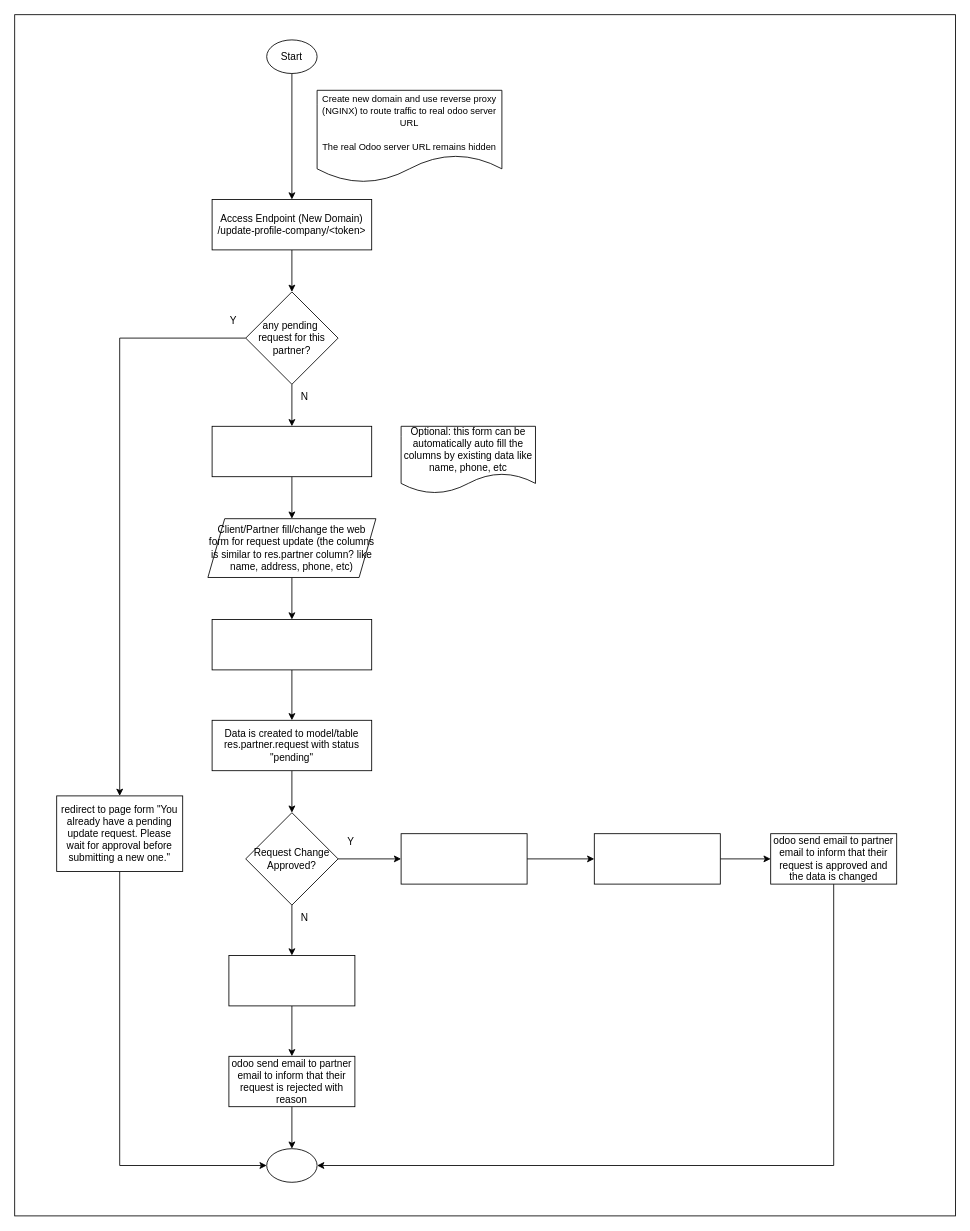
Image size: 970x1231. Some labels were removed from this diagram. Each missing label, with the centre of its shape:
Client submit request change: [291,644]
Data res.partner updated with data from res.partner.request: [656,858]
End: [291,1165]
res.partner.request status updated to "approved": [463,858]
res.partner.request status updated to "rejected": [291,980]
Show the web form of the specific Partner by token that you sent: [291,451]
